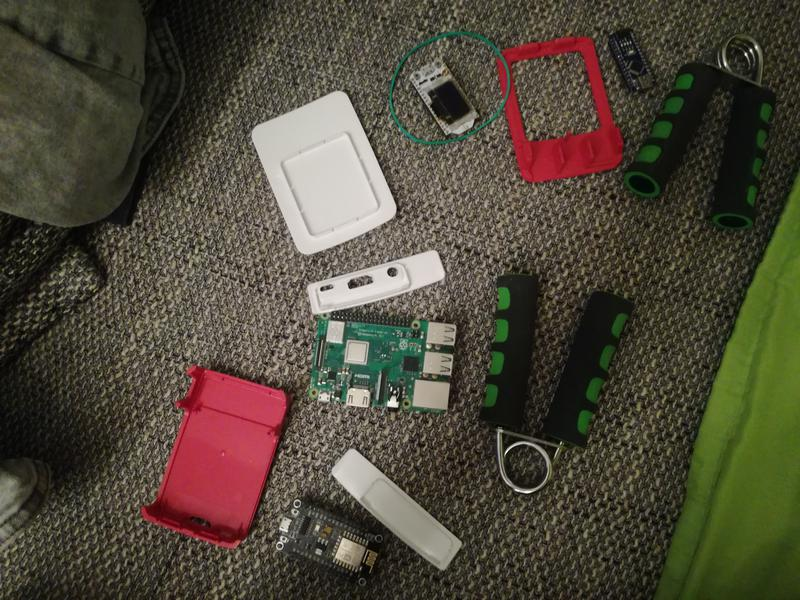Arduino_Nano: (606, 24, 658, 99)
ESP8266: (272, 491, 389, 589)
Heltec_ESP32_Lora: (405, 55, 485, 141)
Raspberry_Pi_3: (304, 308, 468, 415)
